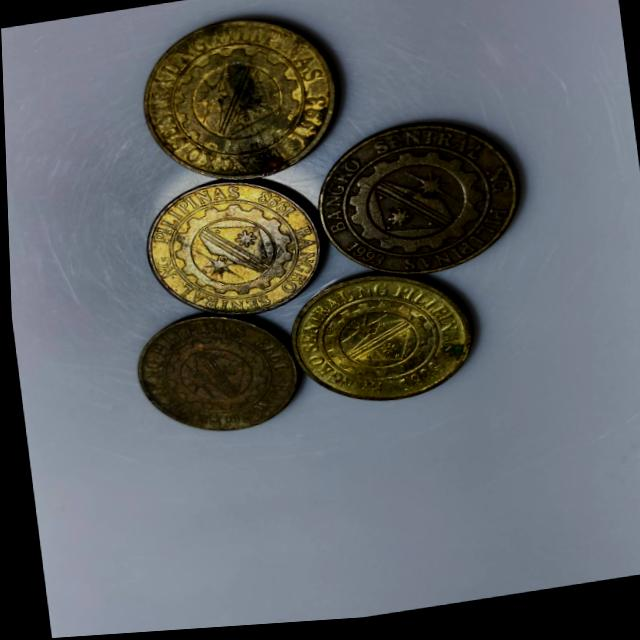25Cent_Old_Back: (134, 8, 347, 193), (303, 116, 533, 287), (134, 169, 319, 325), (284, 272, 472, 419), (129, 307, 289, 450)
